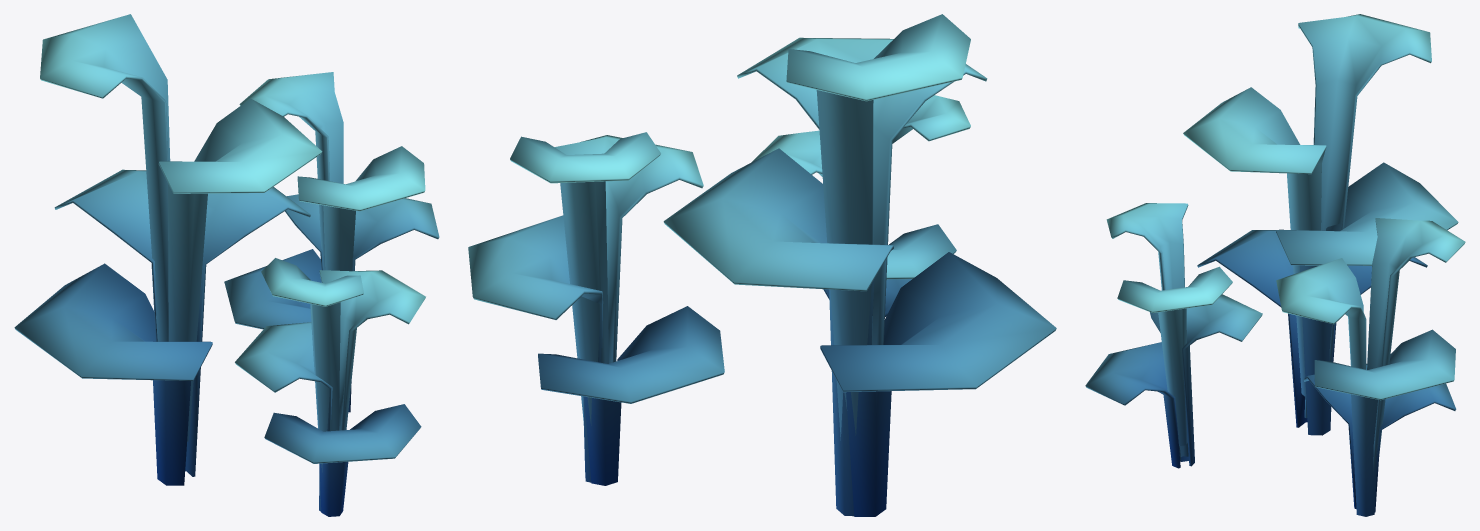
File: swamp_flower_0.fbx
The picture shows the model from 3 angles, left to right: view 1: azimuth 30°, elevation 25°; view 2: azimuth 150°, elevation 25°; view 3: azimuth 270°, elevation 25°; orthographic projection. The views are drawn at different scales.
Parts seen in each view (by area): view 1: Swamp Flower 0; view 2: Swamp Flower 0; view 3: Swamp Flower 0.
Part boxes in pixels (x1,y1,x2,y2): Swamp Flower 0: (14, 14, 439, 516); Swamp Flower 0: (468, 14, 1056, 516); Swamp Flower 0: (1085, 14, 1465, 516).
Size of the model in its own units: 170 by 163 by 148.
1 material, 1 textured.
